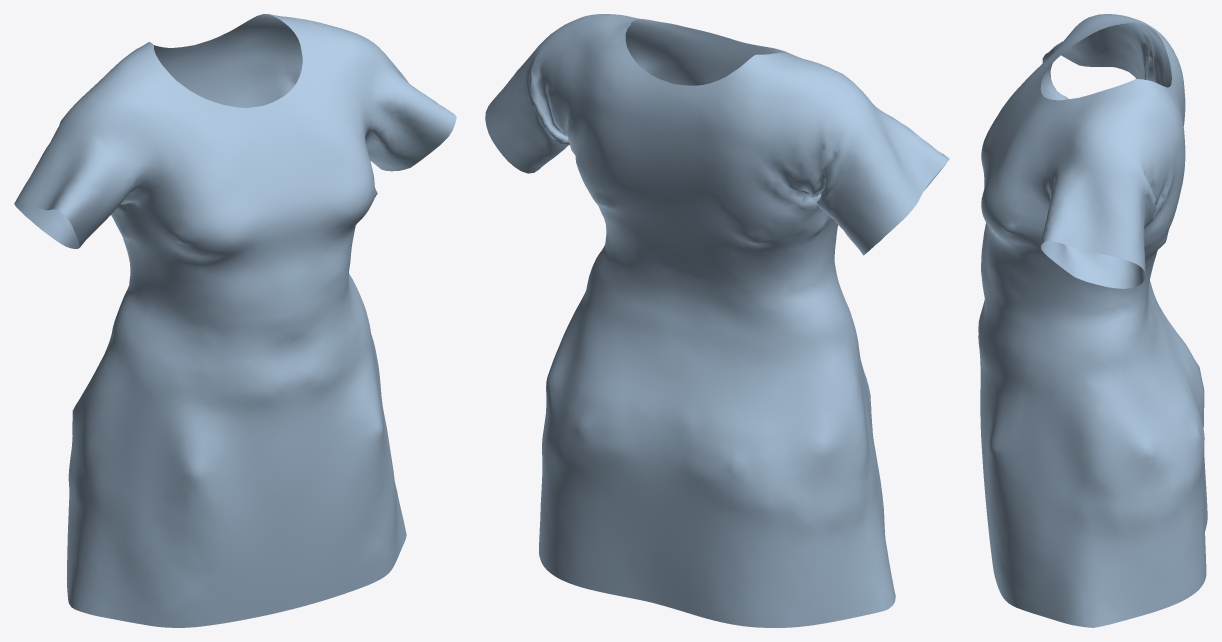
Rendered from dress_XL.glb.
3 views of the same model, side by side, from view 1: azimuth 30°, elevation 25°; view 2: azimuth 150°, elevation 25°; view 3: azimuth 270°, elevation 25° (orthographic). The views are drawn at different scales.
Visible parts, largest first — view 1: geometry_0; view 2: geometry_0; view 3: geometry_0.
Part boxes in pixels (bbox=[...]): geometry_0: bbox=[14, 14, 456, 627]; geometry_0: bbox=[485, 14, 949, 627]; geometry_0: bbox=[978, 14, 1207, 627].
Size of the model in its own units: 0.6008 by 0.7444 by 0.3065.
